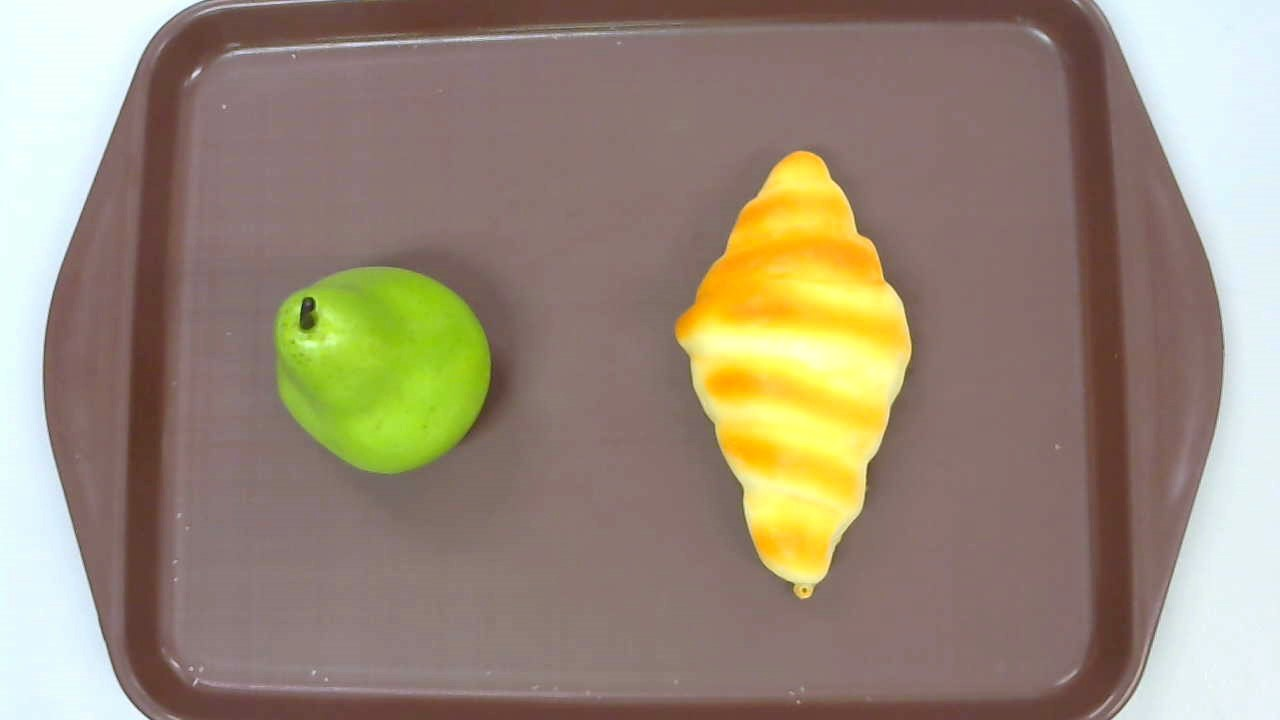croissant: (673, 149, 911, 600)
green pear: (273, 266, 491, 474)
